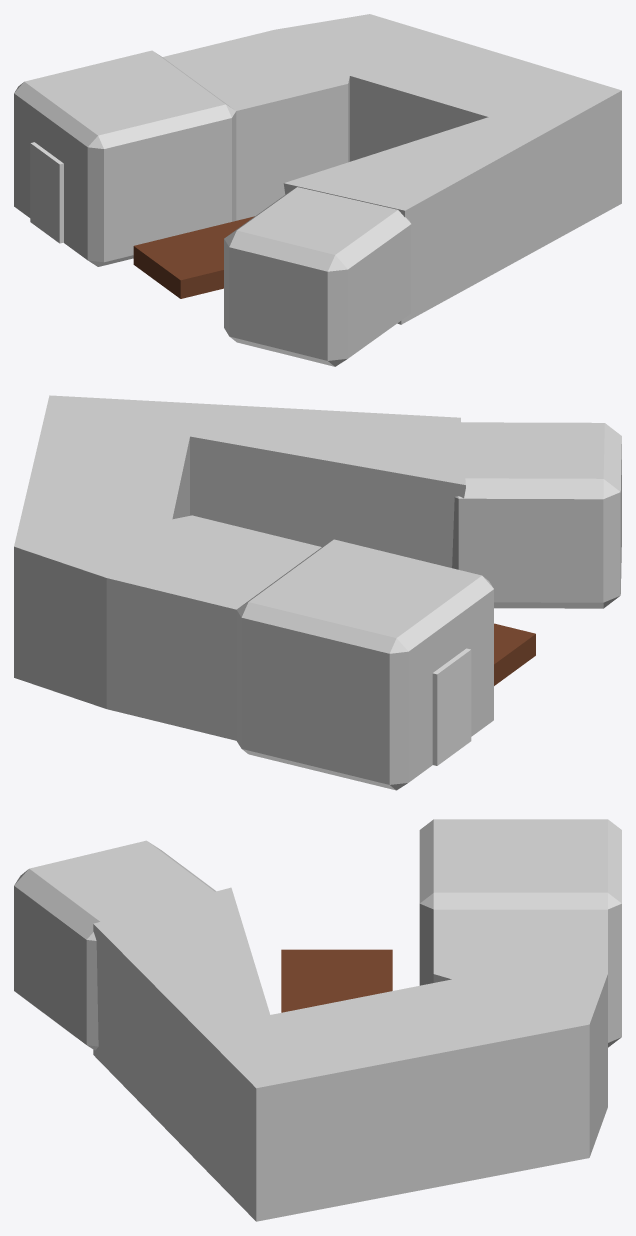
File: farm.fbx
The picture shows the model from 3 angles, top to bottom: view 1: azimuth 30°, elevation 25°; view 2: azimuth 150°, elevation 25°; view 3: azimuth 270°, elevation 25°; orthographic projection. The views are drawn at different scales.
Visible parts, largest first — view 1: Cube; view 2: Cube; view 3: Cube.
Boxes of the visible parts, x1,y1,x2,y2 form: Cube: [14, 14, 621, 366]; Cube: [14, 395, 621, 790]; Cube: [14, 819, 621, 1221].
Size of the model in its own units: 624 by 169 by 601.
